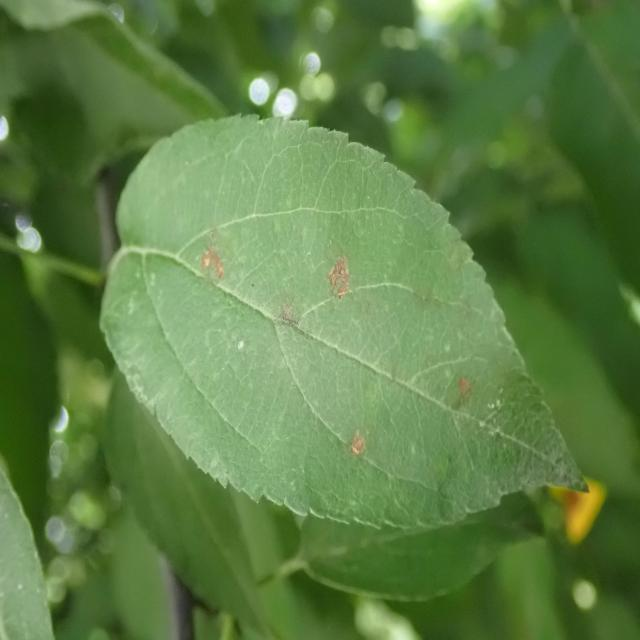scab: (80, 157, 564, 522)
